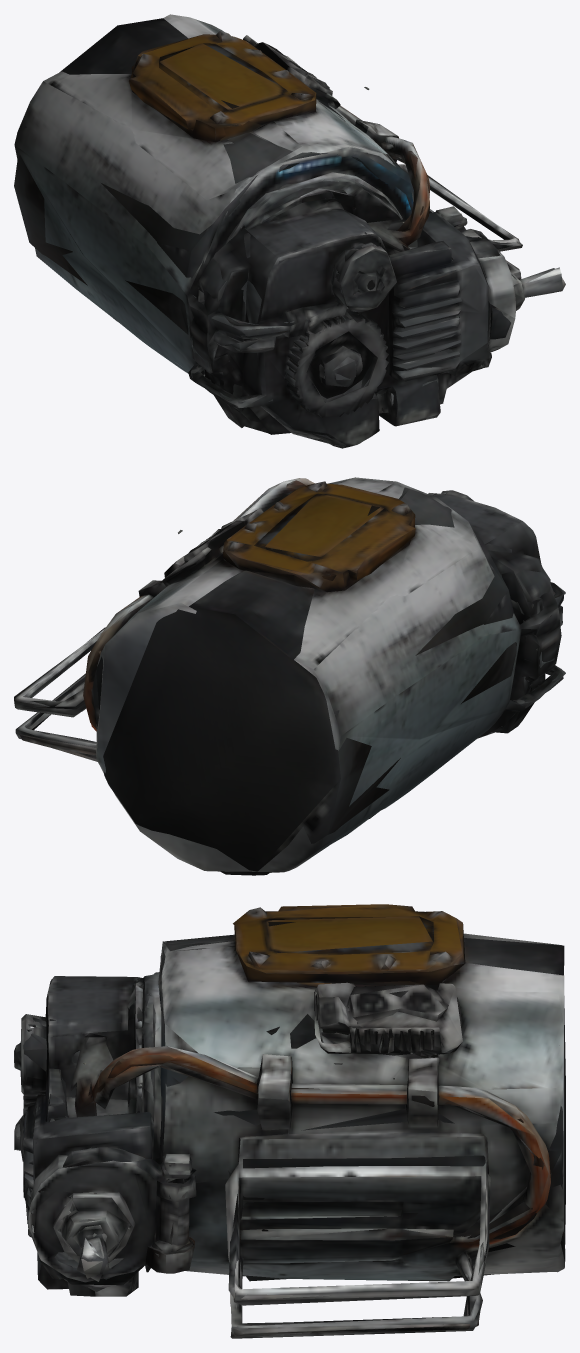
Rendered from fanshuo-cup.glb.
3 renders of one model, top to bottom at view 1: azimuth 30°, elevation 25°; view 2: azimuth 150°, elevation 25°; view 3: azimuth 270°, elevation 25°, orthographic. The views are drawn at different scales.
Parts seen in each view (by area): view 1: world; view 2: world; view 3: world.
Part boxes in pixels (x1,y1,x2,y2): world: (14, 14, 565, 448); world: (14, 477, 565, 875); world: (14, 904, 565, 1338).
Bounding box in the file's own units: 0.1098 × 0.0788 × 0.12.
Materials: 1 (1 with a texture image).
